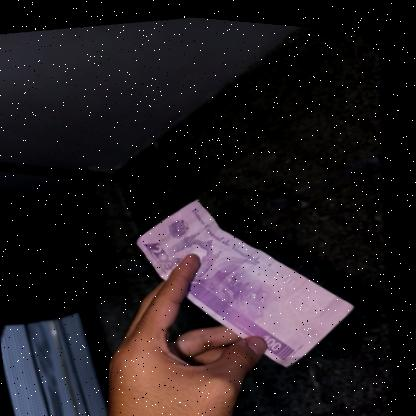one_hundred-back-vef: (126, 164, 373, 391)
